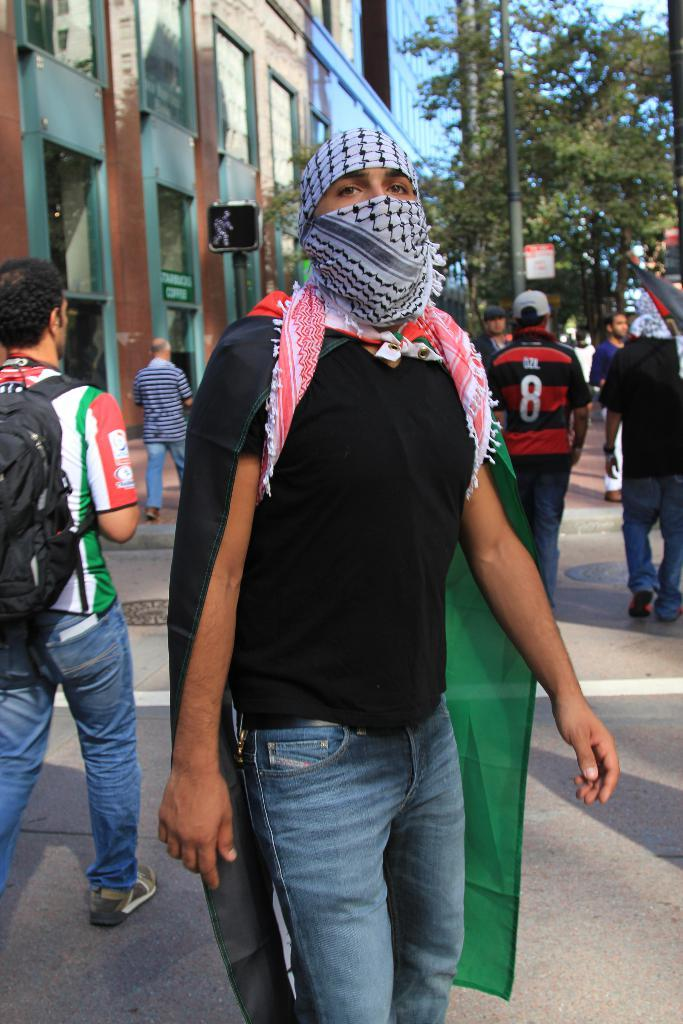Hat: (512, 289, 550, 318)
